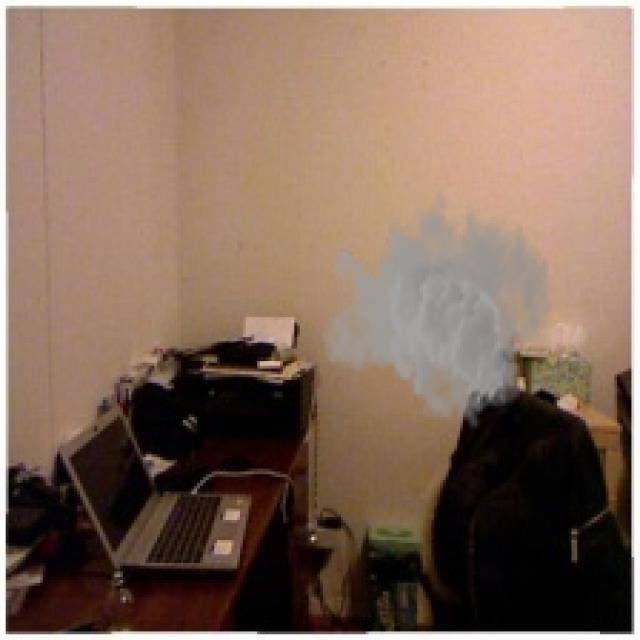Smoke: (320, 182, 554, 432)
